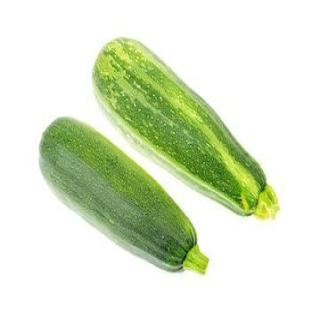Zucchini: (93, 39, 279, 218), (41, 118, 207, 273)
